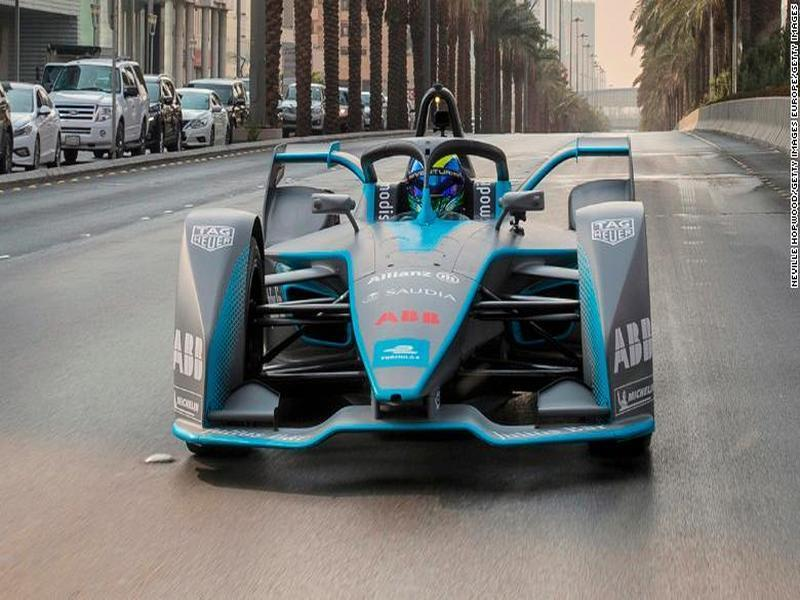f1: (167, 80, 714, 479)
